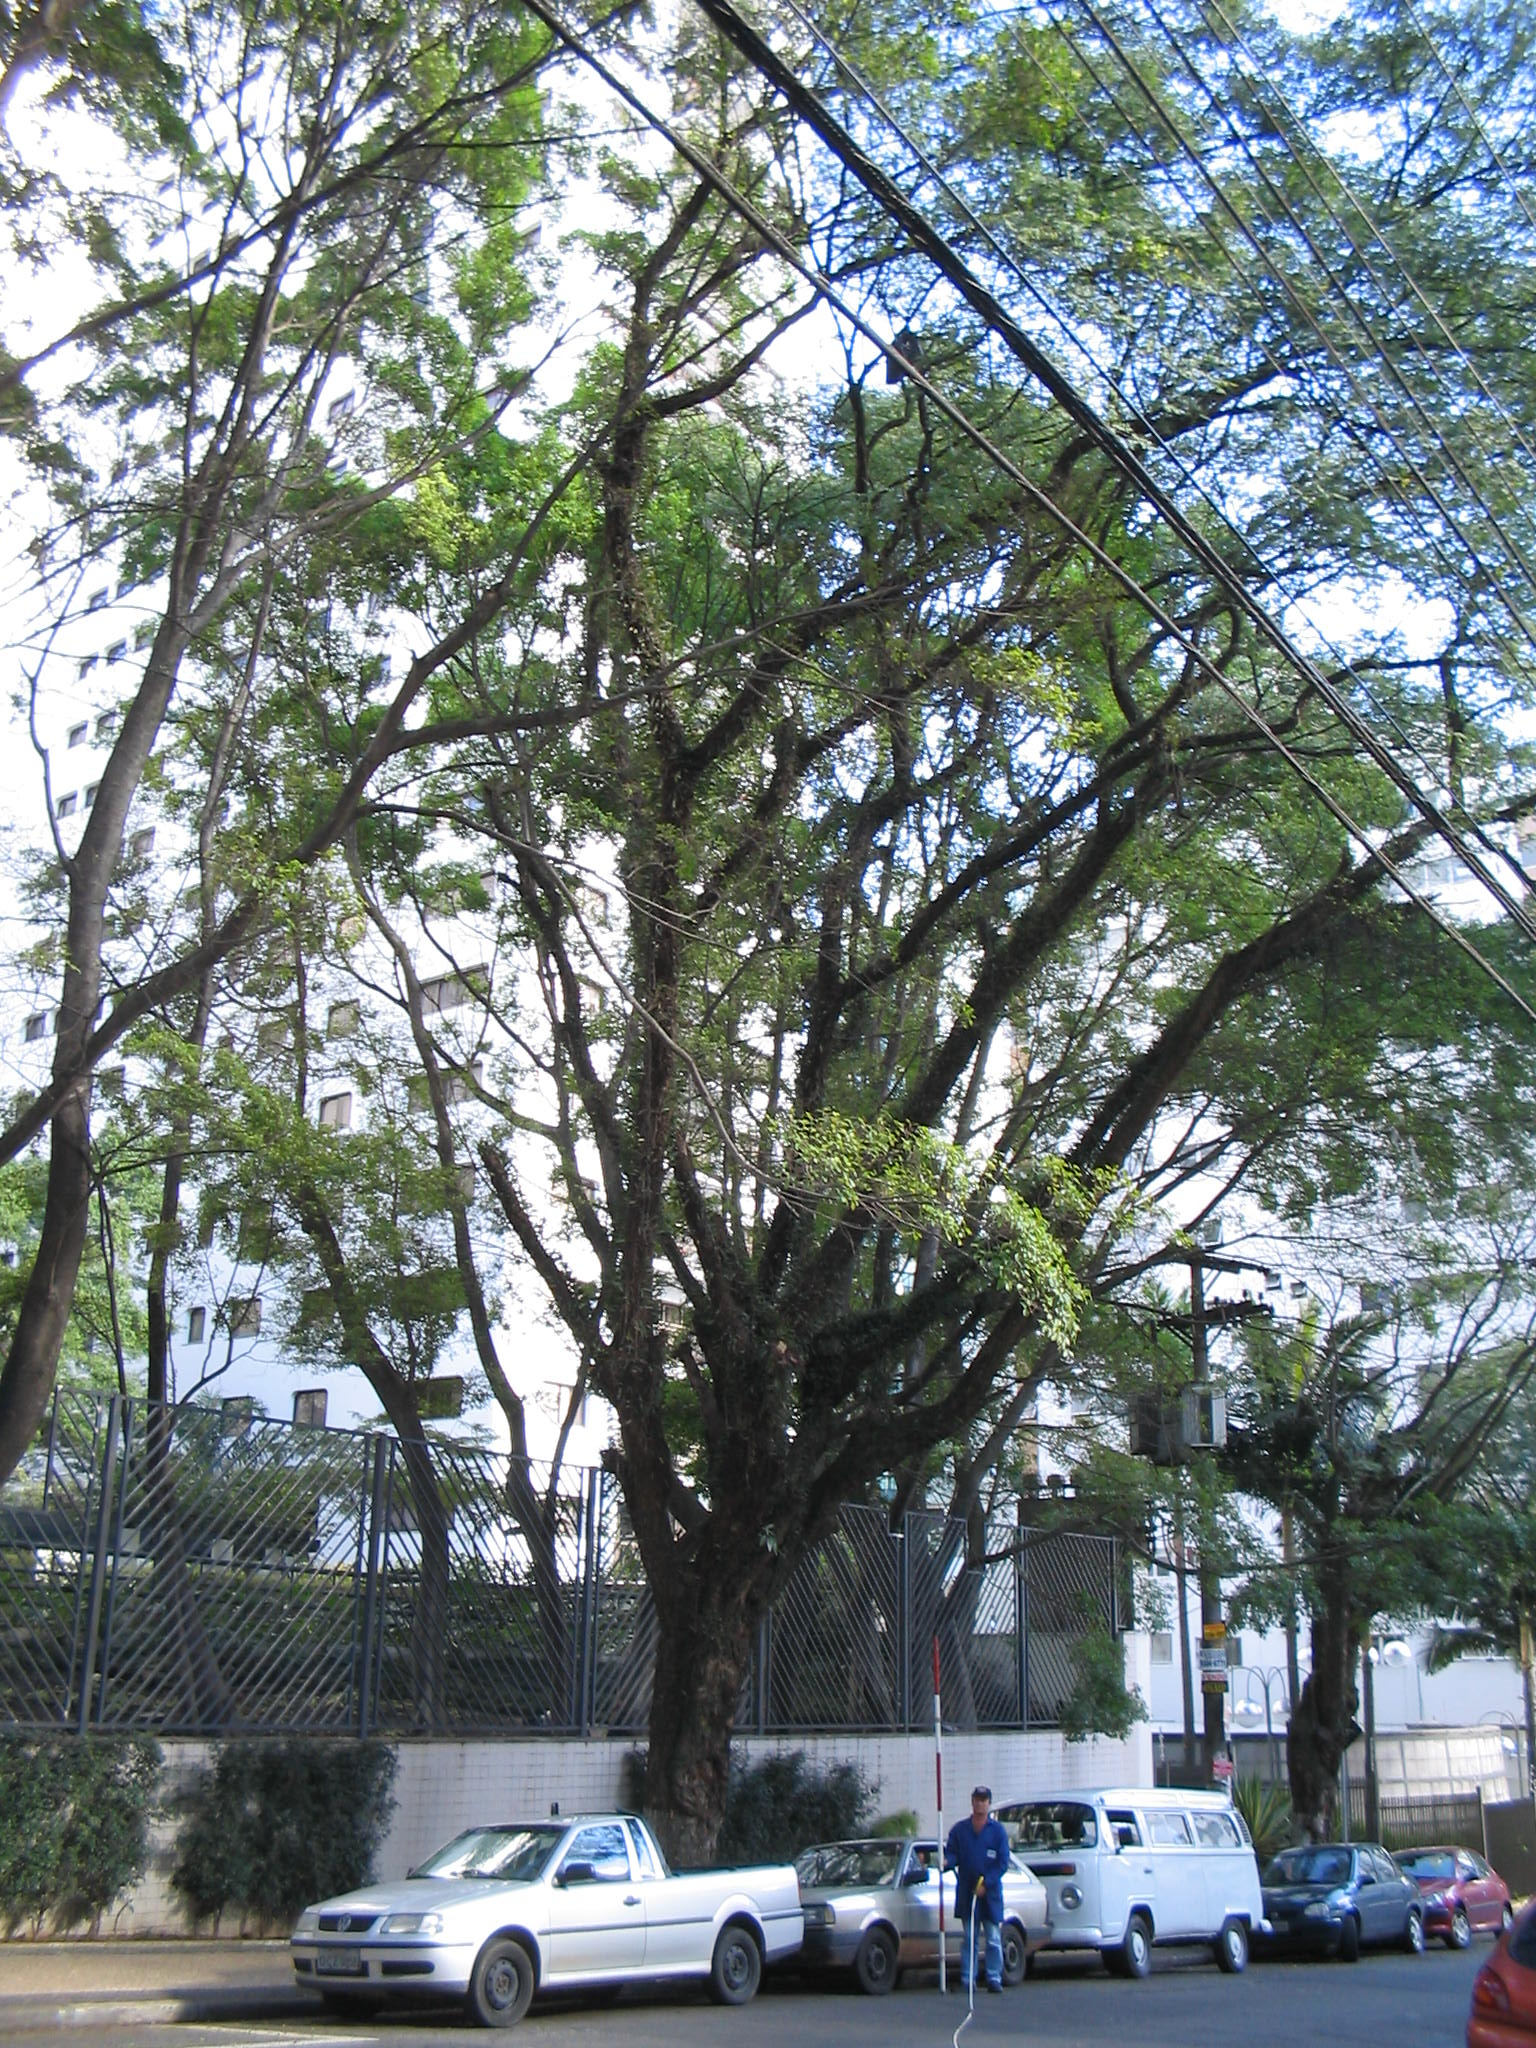stem: (595, 1550, 795, 1990)
stick: (907, 1632, 981, 1992)
tree: (399, 68, 1531, 1990), (1207, 1317, 1531, 1846)
